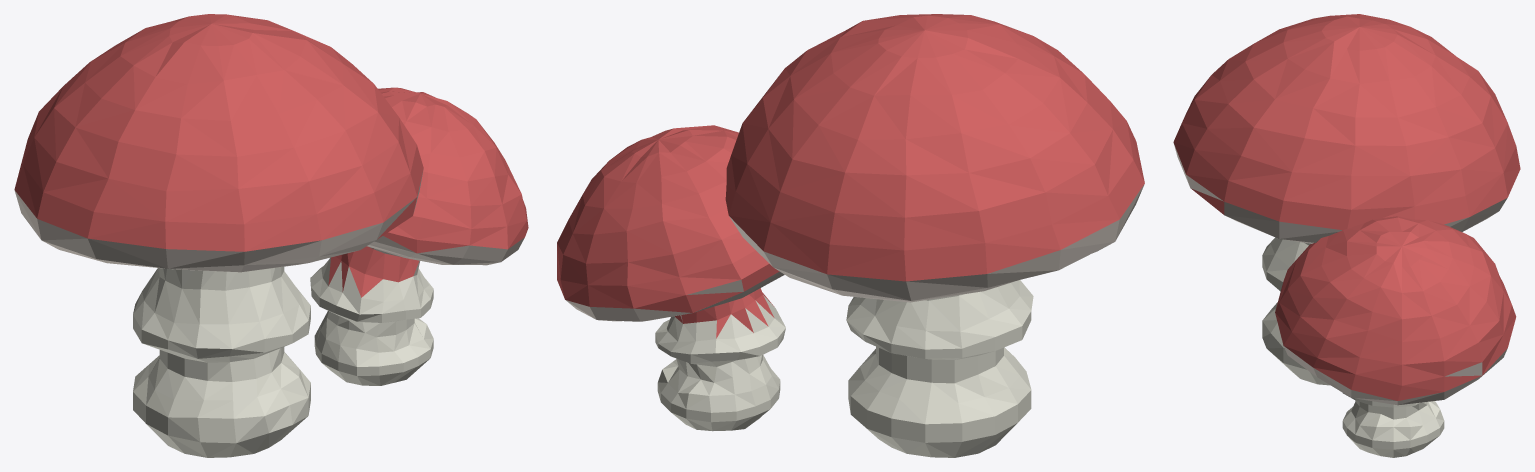
Rendered from nat_kinoko0.glb.
The picture shows the model from 3 angles, left to right: view 1: azimuth 30°, elevation 25°; view 2: azimuth 150°, elevation 25°; view 3: azimuth 270°, elevation 25°; orthographic projection. The views are drawn at different scales.
Parts seen in each view (by area): view 1: geometry_0; view 2: geometry_0; view 3: geometry_0.
Part boxes in pixels (box(x1,y1,x2,y2)): geometry_0: box(14, 14, 528, 457); geometry_0: box(557, 14, 1144, 457); geometry_0: box(1173, 14, 1520, 457).
Size of the model in its own units: 0.0566 by 0.0435 by 0.04.
